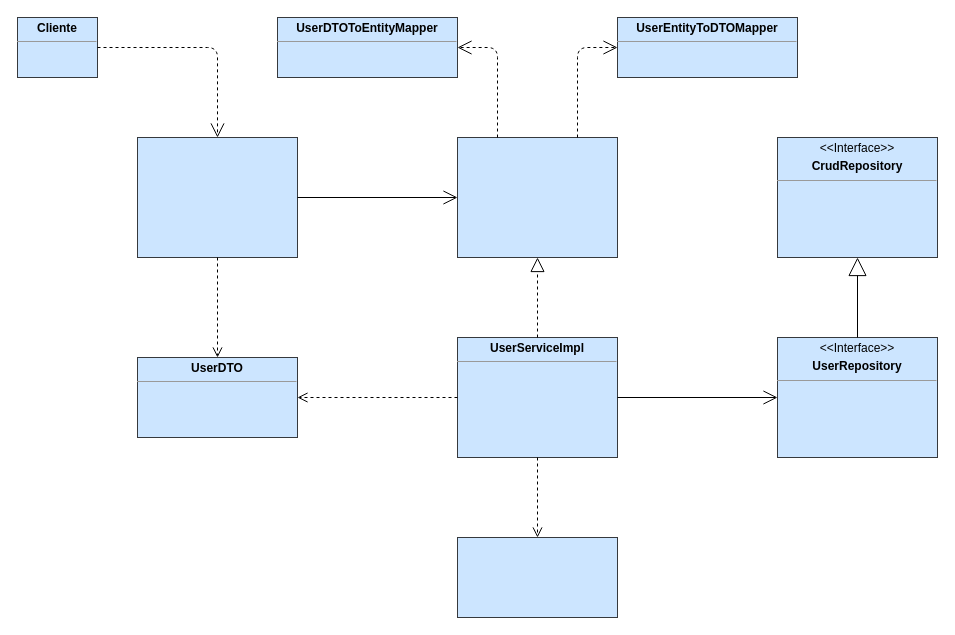
The diagram is 955 pixels wide and 635 high, and some of its shapes have lost their labels. Each missing label, with the centre of its shape:
<<Interface>> UserService: (x=537, y=197)
User: (x=537, y=577)
UserRestController: (x=217, y=197)
